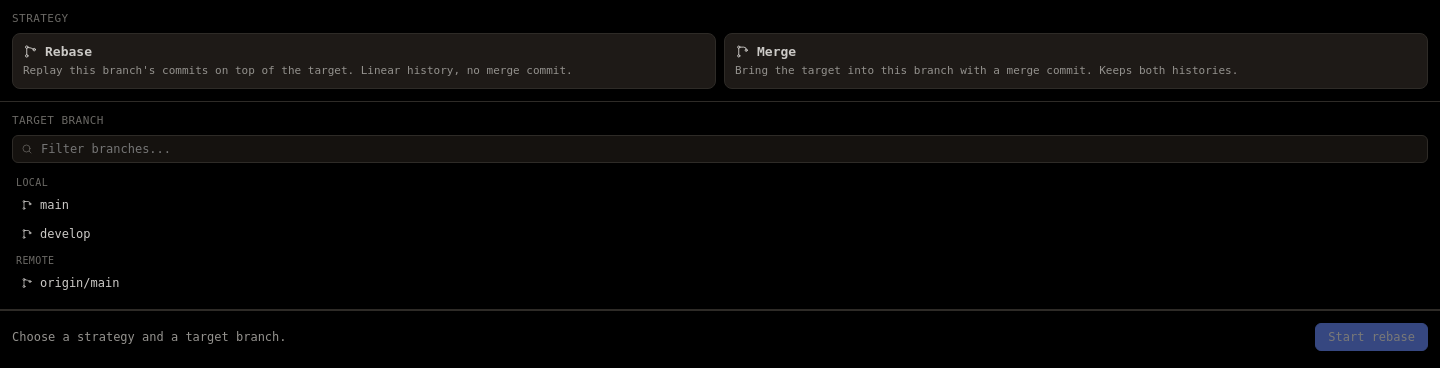
Test: MergeRebaseView › running the operation › offers to move the base onto a different branch
This screenshot has width=1440, height=368.
Step 1. Click the button with class "mr-card" that starts with "Rebase" → [364, 61], box [12, 33, 716, 89]
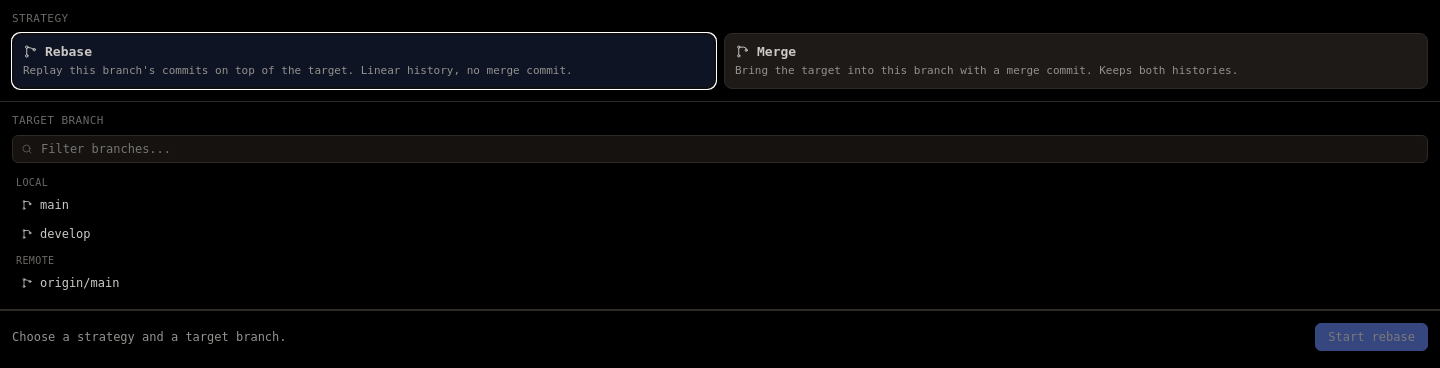
Step 2. Click the button with class "mr-branch" showing "develop" → [65, 234], box [12, 220, 1428, 248]
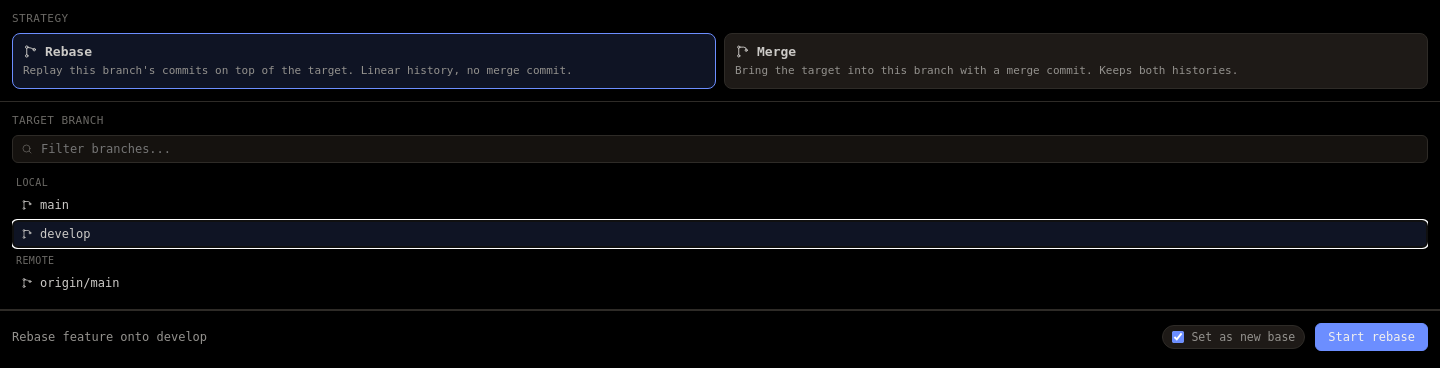
Check: the text "Set as new base" is shown, box [1162, 325, 1305, 349]
